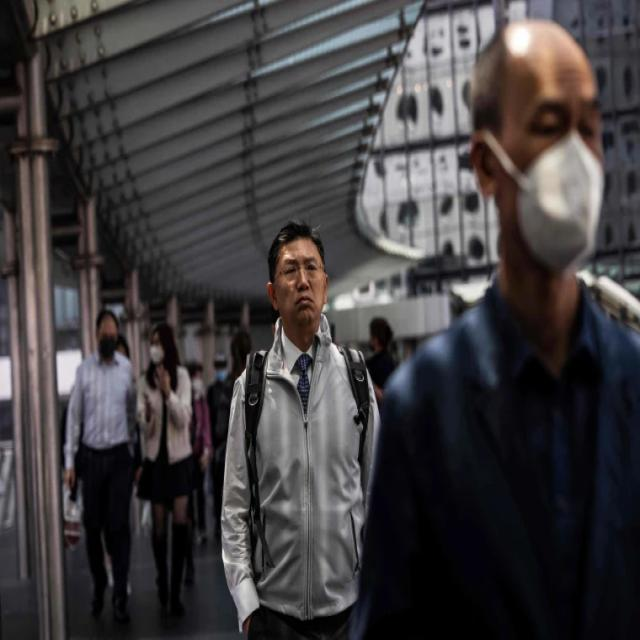Masked_face: (460, 24, 623, 276)
no_Mask: (259, 221, 337, 347)
